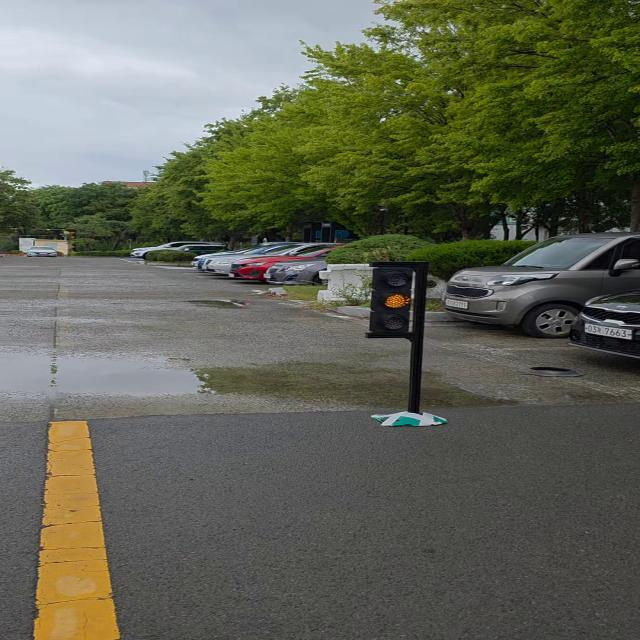yellow: (372, 264, 422, 338)
